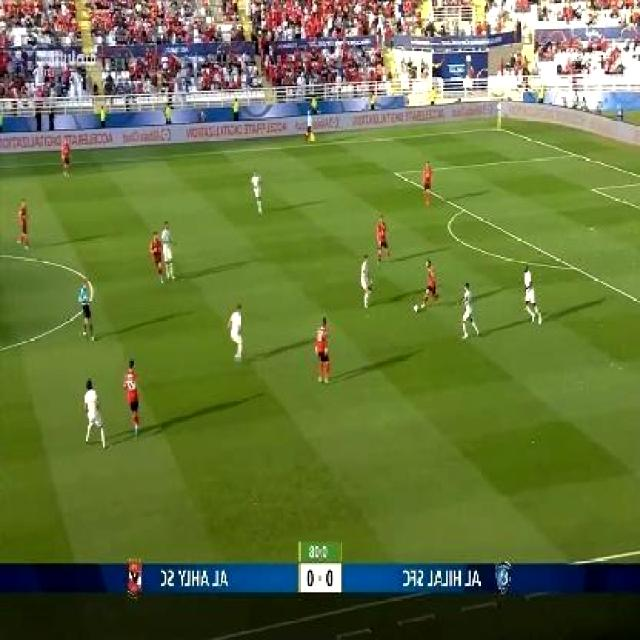bigarea_top_inner: (394, 166, 401, 180)
bigarea_top_outter: (571, 149, 578, 157)
bottom_arc_area_intersection: (557, 257, 583, 277)
corner: (494, 123, 503, 129)
smallarea_top_inner: (592, 185, 598, 192)
top_arc_area_intersection: (460, 203, 468, 214)
